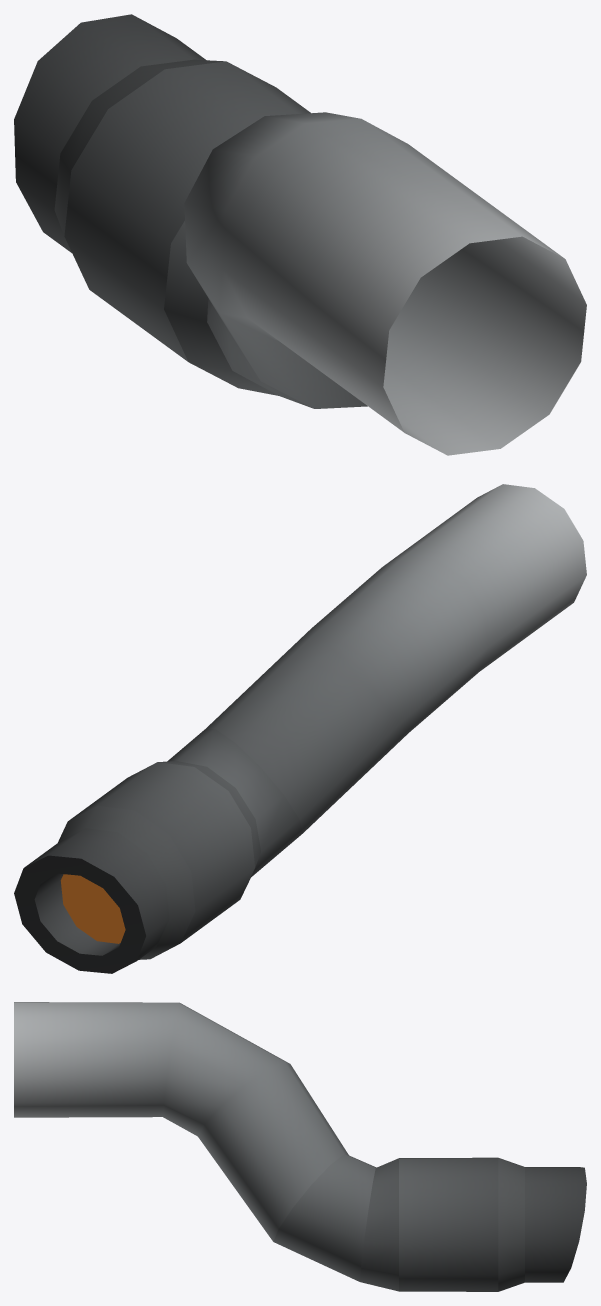
The model's file is Car_12_Pipe_Simple.fbx.
3 views of the same model, one above another, from view 1: azimuth 30°, elevation 25°; view 2: azimuth 150°, elevation 25°; view 3: azimuth 270°, elevation 25° (orthographic). The views are drawn at different scales.
Parts seen in each view (by area): view 1: Car_12_Pipe_Simple; view 2: Car_12_Pipe_Simple; view 3: Car_12_Pipe_Simple.
Part boxes in pixels (x1=…): Car_12_Pipe_Simple: x1=14, y1=14, x2=586, y2=455; Car_12_Pipe_Simple: x1=14, y1=484, x2=586, y2=973; Car_12_Pipe_Simple: x1=14, y1=1002, x2=586, y2=1291.
Size of the model in its own units: 30.42 by 75.08 by 34.1.
